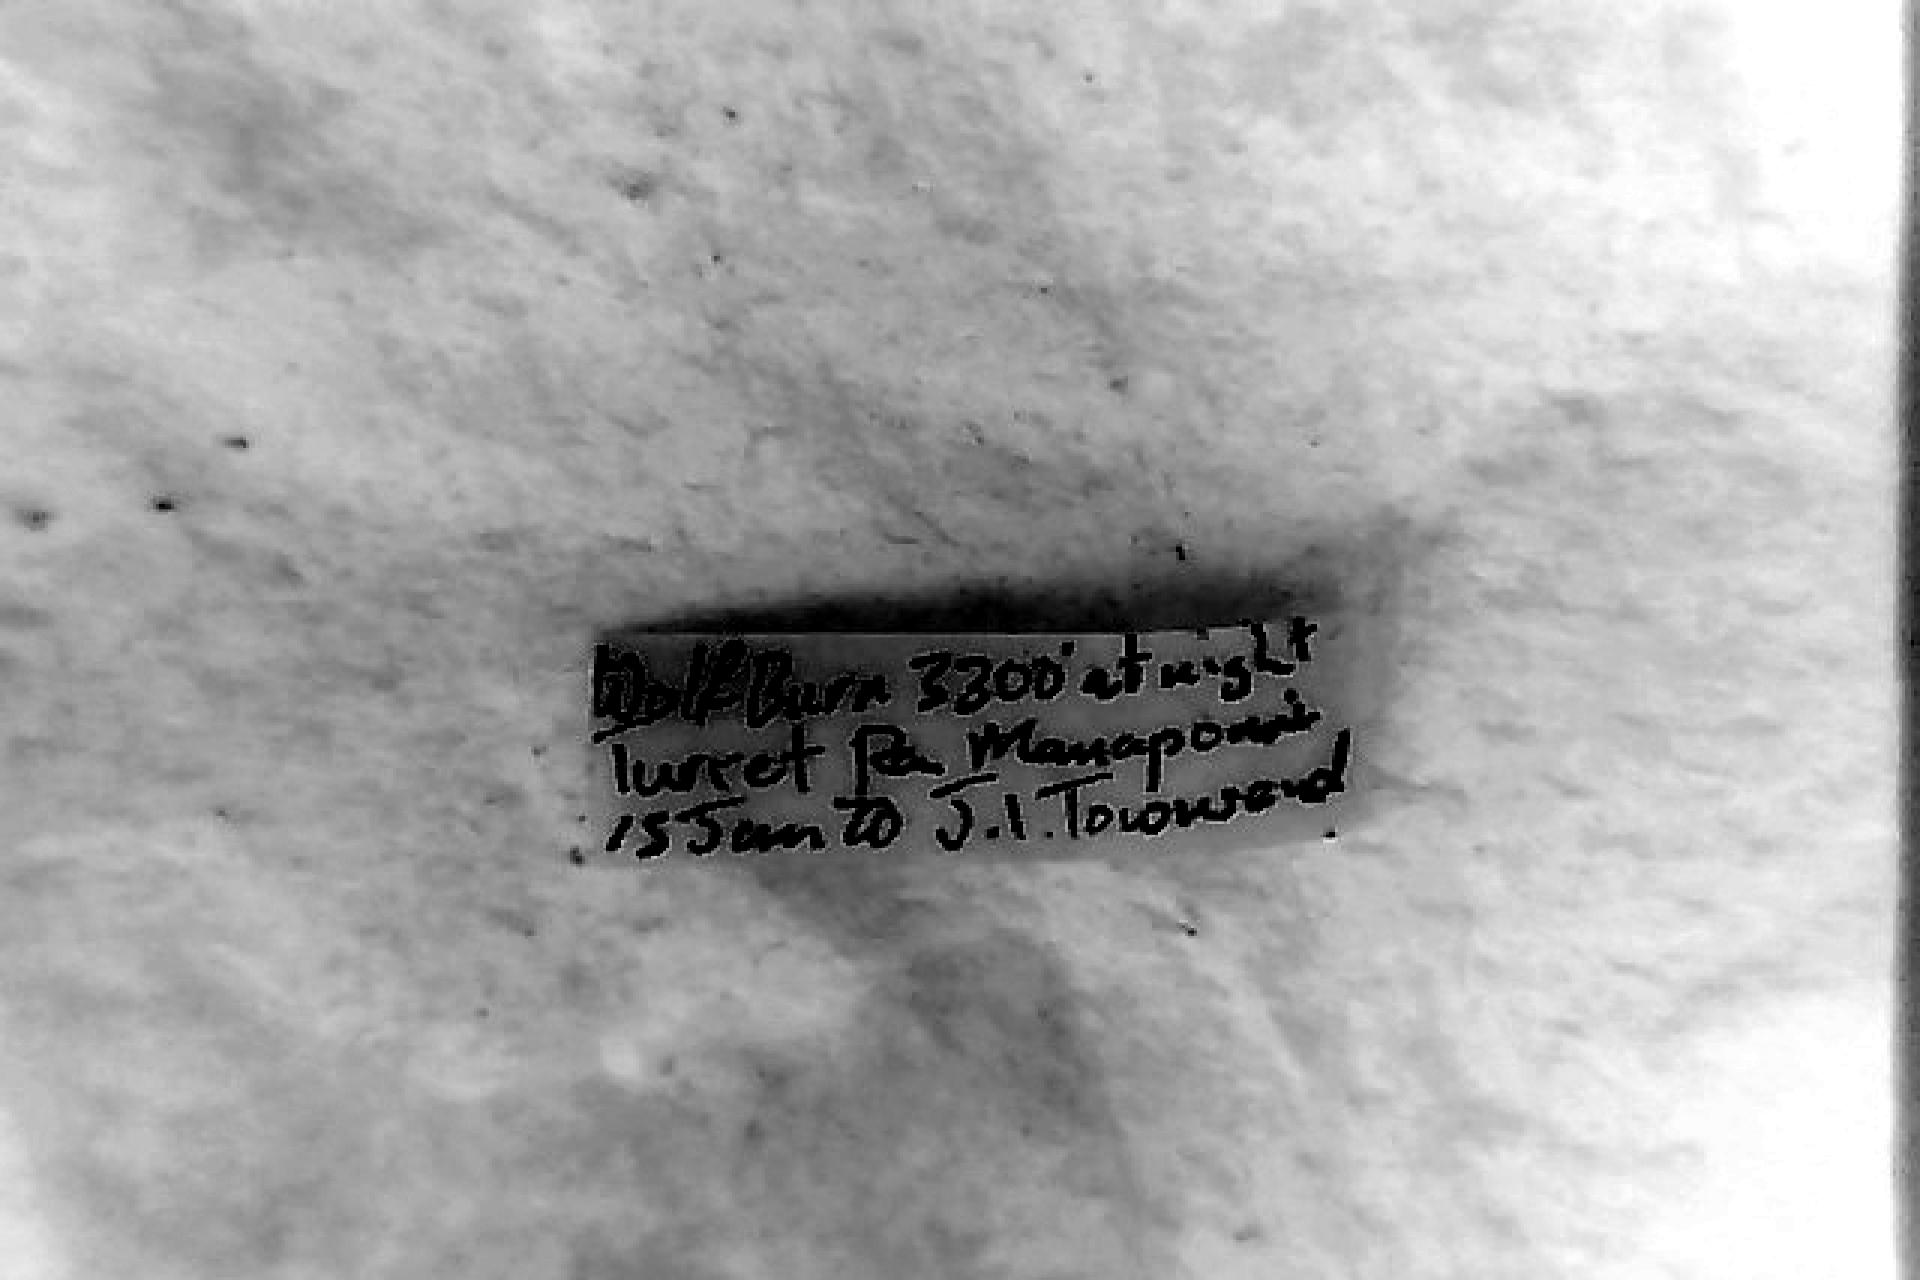hand_label: (589, 617, 1354, 859)
